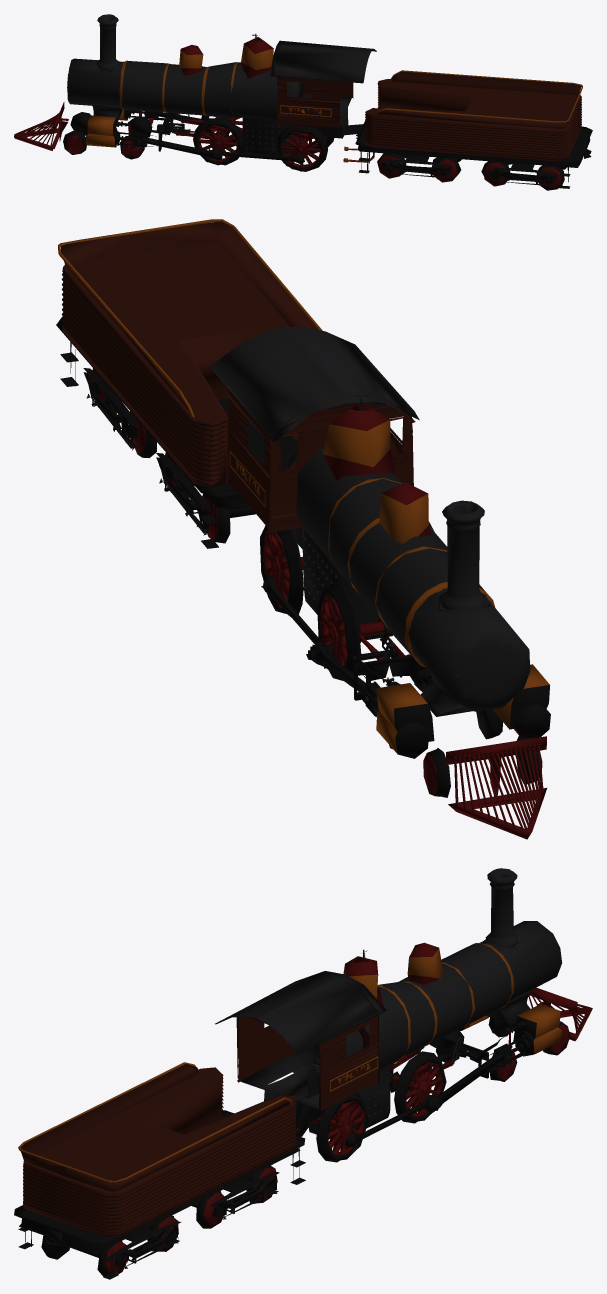
File: decimated_train.obj
The picture shows the model from 3 angles, top to bottom: view 1: azimuth 30°, elevation 25°; view 2: azimuth 150°, elevation 25°; view 3: azimuth 270°, elevation 25°; orthographic projection. The views are drawn at different scales.
Parts seen in each view (by area): view 1: Tender_sup_Circle.040, Boiler_Plane.019, Cabine_Plane.017, Loco_wheels_Circle.005, Pistons_bielles_Circle.003, Tender_wheels_Cube.005, Vases_Plane.026, Tablier_Plane.018, Cheminee_Plane.027, Support_Boiler_Circle.010; view 2: Tender_sup_Circle.040, Boiler_Plane.019, Cabine_Plane.017, Pistons_bielles_Circle.003, Loco_wheels_Circle.005, Vases_Plane.026, Tablier_Plane.018, Tender_wheels_Cube.005, Cheminee_Plane.027, Boiler_door_Plane.007, Support_Boiler_Circle.010; view 3: Tender_sup_Circle.040, Cabine_Plane.017, Boiler_Plane.019, Loco_wheels_Circle.005, Pistons_bielles_Circle.003, Tender_wheels_Cube.005, Vases_Plane.026, Cheminee_Plane.027, Tablier_Plane.018, Support_Boiler_Circle.010.
Boxes of the visible parts, left/top/right/bottom form: Tender_sup_Circle.040: left=343, top=70, right=592, bottom=188; Boiler_Plane.019: left=67, top=58, right=304, bottom=156; Cabine_Plane.017: left=270, top=40, right=376, bottom=138; Loco_wheels_Circle.005: left=63, top=112, right=334, bottom=171; Pistons_bielles_Circle.003: left=85, top=109, right=304, bottom=164; Tender_wheels_Cube.005: left=377, top=153, right=566, bottom=190; Vases_Plane.026: left=179, top=33, right=273, bottom=78; Tablier_Plane.018: left=14, top=102, right=68, bottom=150; Cheminee_Plane.027: left=94, top=14, right=120, bottom=72; Support_Boiler_Circle.010: left=91, top=104, right=122, bottom=121; Tender_sup_Circle.040: left=56, top=219, right=322, bottom=548; Boiler_Plane.019: left=288, top=447, right=530, bottom=711; Cabine_Plane.017: left=209, top=326, right=419, bottom=548; Pistons_bielles_Circle.003: left=261, top=575, right=550, bottom=758; Loco_wheels_Circle.005: left=260, top=525, right=542, bottom=797; Vases_Plane.026: left=322, top=398, right=431, bottom=543; Tablier_Plane.018: left=446, top=736, right=547, bottom=839; Tender_wheels_Cube.005: left=83, top=368, right=255, bottom=543; Cheminee_Plane.027: left=438, top=500, right=490, bottom=612; Boiler_door_Plane.007: left=455, top=638, right=522, bottom=702; Support_Boiler_Circle.010: left=420, top=674, right=506, bottom=716; Tender_sup_Circle.040: left=14, top=1062, right=305, bottom=1279; Cabine_Plane.017: left=215, top=971, right=386, bottom=1128; Boiler_Plane.019: left=298, top=921, right=561, bottom=1139; Loco_wheels_Circle.005: left=296, top=1017, right=570, bottom=1162; Pistons_bielles_Circle.003: left=344, top=1004, right=561, bottom=1147; Tender_wheels_Cube.005: left=41, top=1165, right=279, bottom=1276; Vases_Plane.026: left=343, top=942, right=443, bottom=1006; Cheminee_Plane.027: left=483, top=868, right=521, bottom=948; Tablier_Plane.018: left=526, top=987, right=592, bottom=1041; Support_Boiler_Circle.010: left=486, top=990, right=532, bottom=1024.
Bounding box in the file's own units: 16.8 × 5.14 × 14.47.
